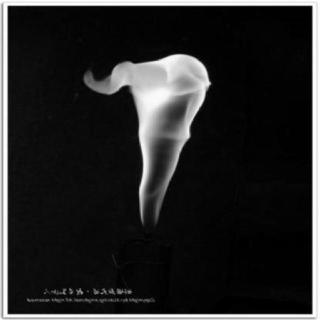Fire: (75, 46, 217, 230)
